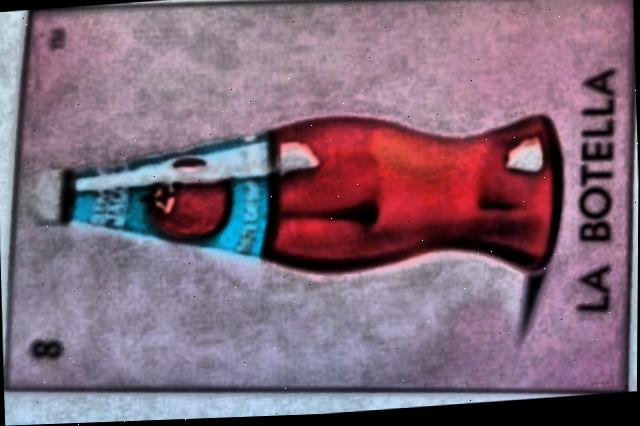La Botella: (6, 0, 633, 396)
